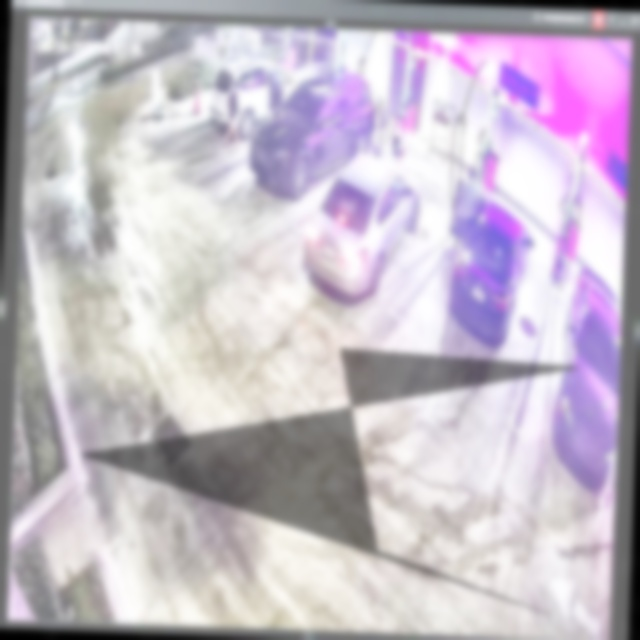Car: (305, 147, 423, 297), (248, 64, 377, 200), (453, 180, 534, 344)
